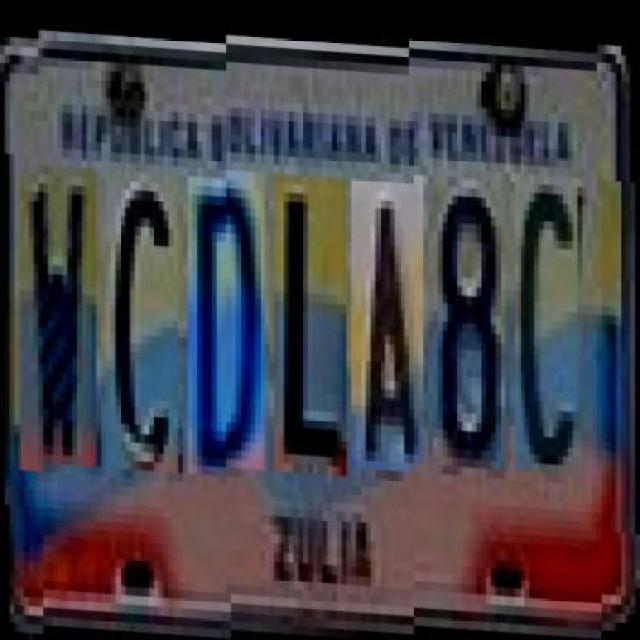8: (433, 169, 505, 463)
a: (351, 164, 424, 458)
c: (106, 150, 179, 453), (514, 166, 578, 466)
d: (188, 154, 264, 458)
l: (275, 160, 347, 462)
w: (19, 144, 96, 448)
